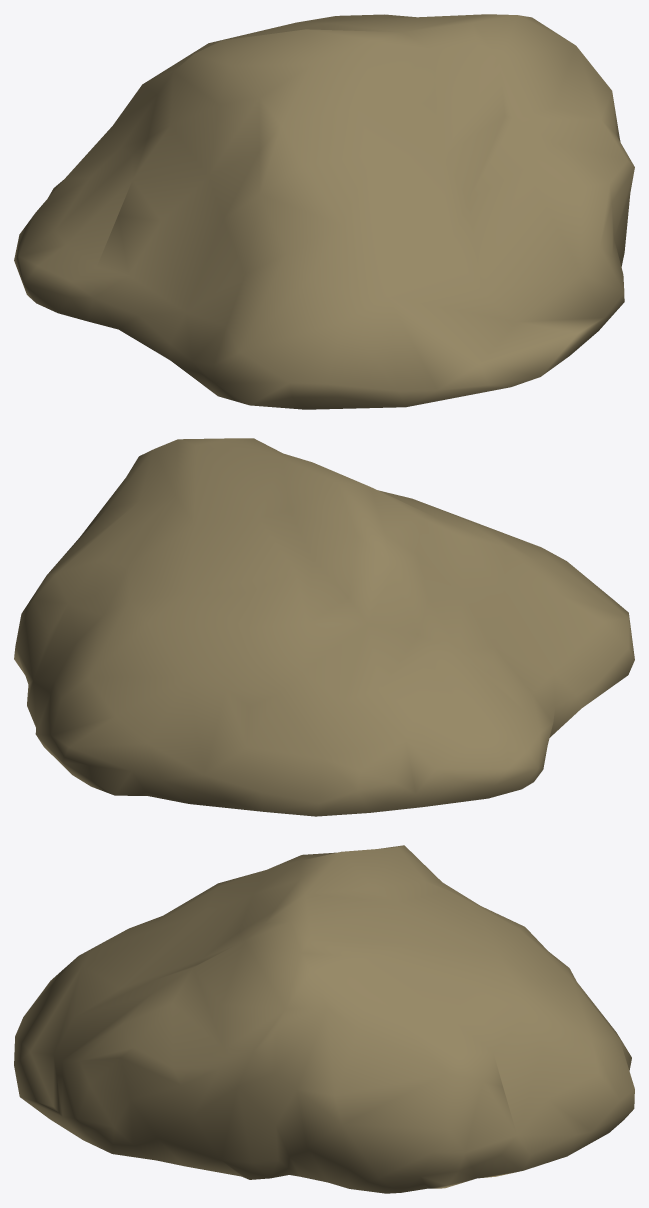
Rendered from roche.fbx.
3 views of the same model, one above another, from view 1: azimuth 30°, elevation 25°; view 2: azimuth 150°, elevation 25°; view 3: azimuth 270°, elevation 25° (orthographic). The views are drawn at different scales.
Parts seen in each view (by area): view 1: roche; view 2: roche; view 3: roche.
Part boxes in pixels (x1,y1,x2,y2): roche: (14,14,634,409); roche: (14,438,634,816); roche: (14,845,634,1193).
Bounding box in the file's own units: 106 × 45.24 × 115.
